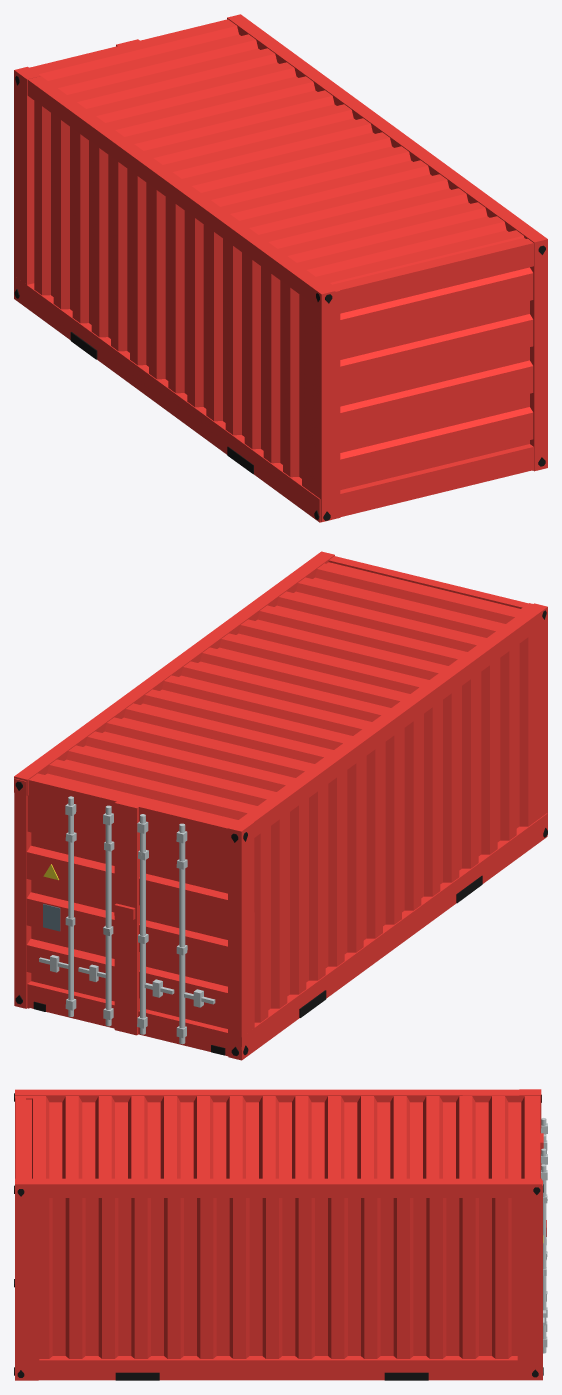
File: 2Con.fbx
The picture shows the model from 3 angles, top to bottom: view 1: azimuth 30°, elevation 25°; view 2: azimuth 150°, elevation 25°; view 3: azimuth 270°, elevation 25°; orthographic projection. The views are drawn at different scales.
Parts seen in each view (by area): view 1: Node; view 2: Node; view 3: Node.
Part boxes in pixels (<box>): Node: <box>14,14,547,522</box>; Node: <box>14,551,547,1060</box>; Node: <box>14,1089,547,1380</box>.
Size of the model in its own units: 134 by 128 by 316.
